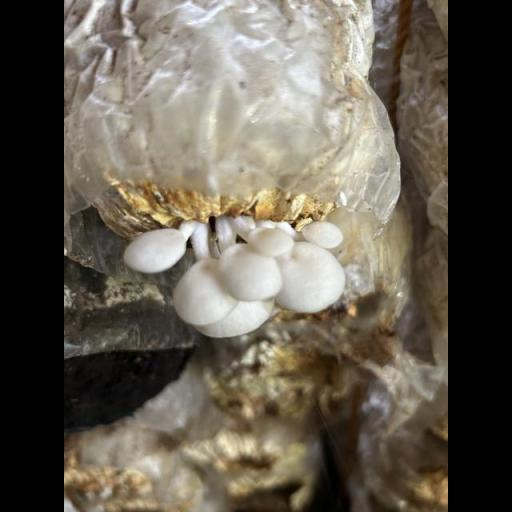White Oyster Mushroom: (114, 204, 366, 346)
